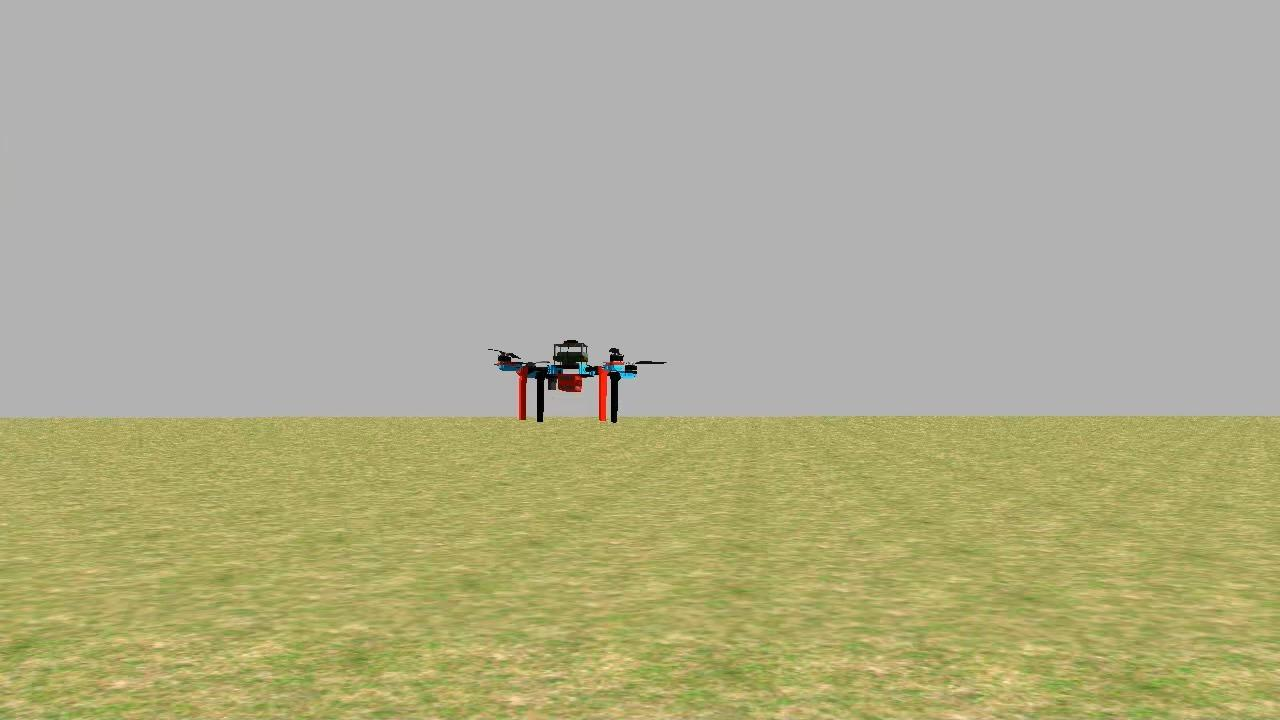UAV: (492, 315, 648, 432)
